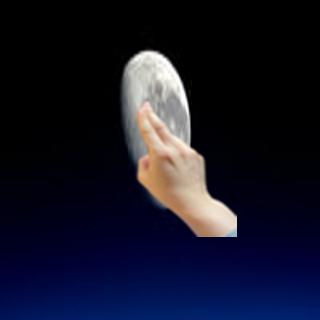DHAVE: (127, 96, 211, 212)
